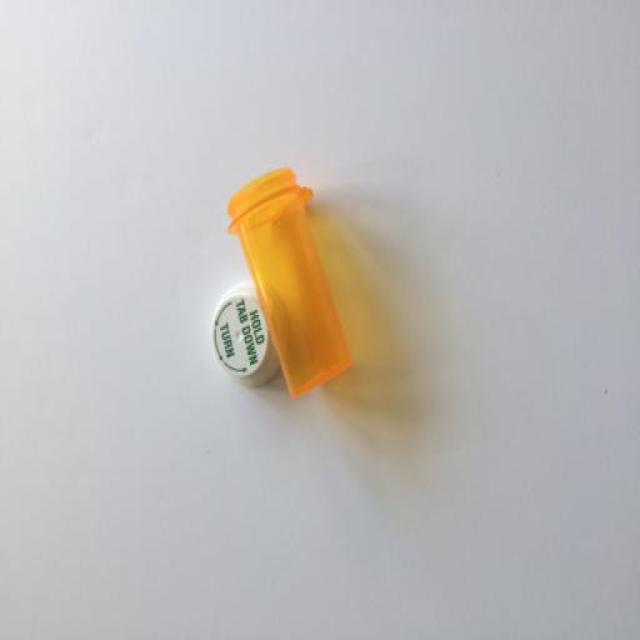Recycle: (214, 174, 364, 389)
